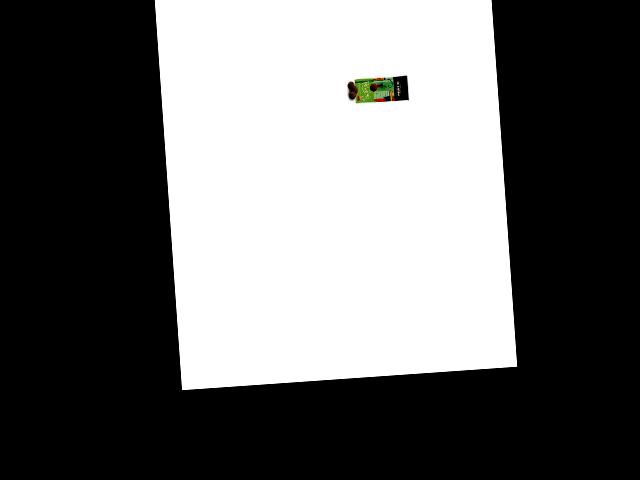chocolate: (352, 69, 411, 107)
